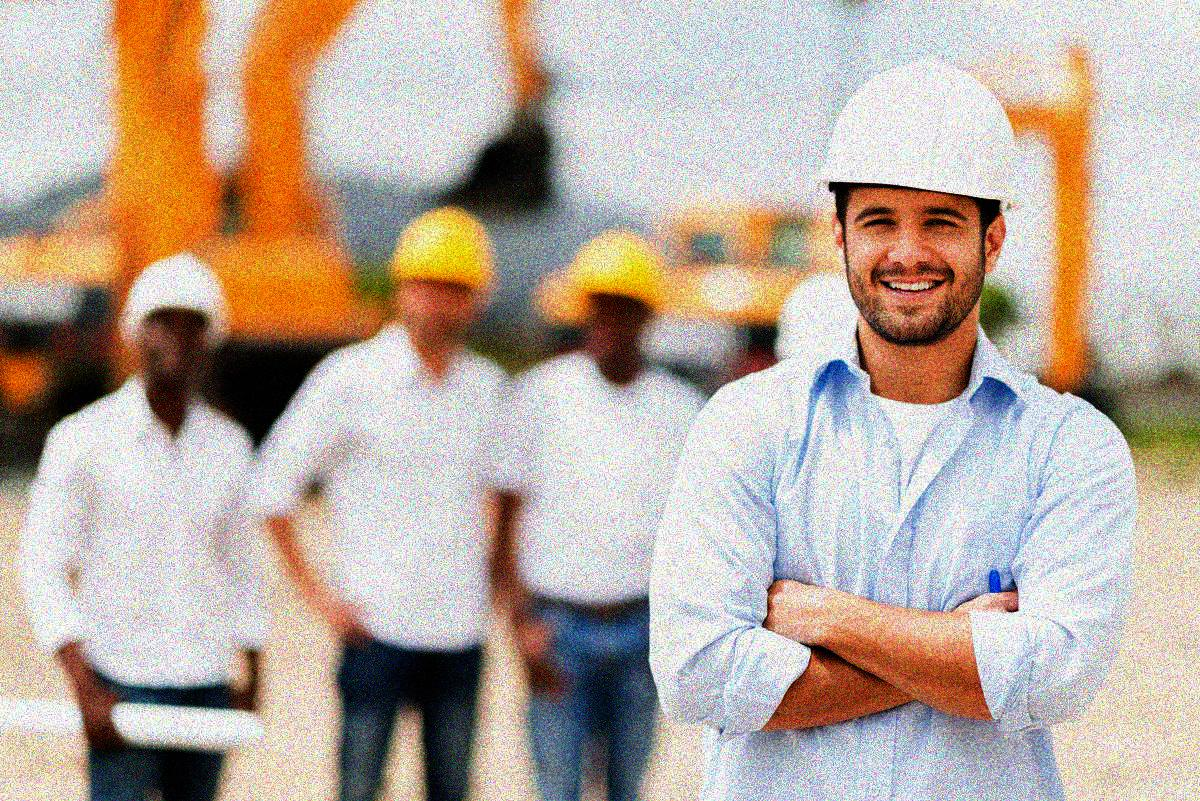helmet: (818, 58, 1029, 352), (119, 249, 238, 390), (388, 204, 500, 342), (567, 226, 667, 364)
